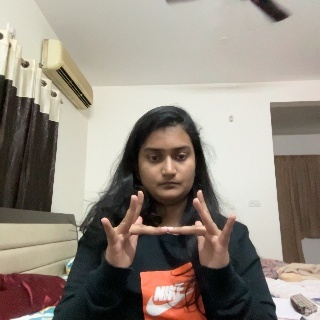Internet: (101, 190, 239, 280)
